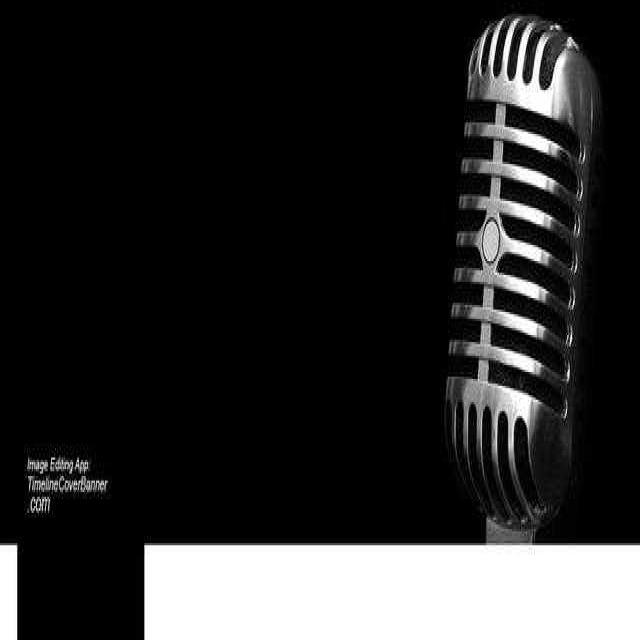microphone: (442, 6, 610, 547)
